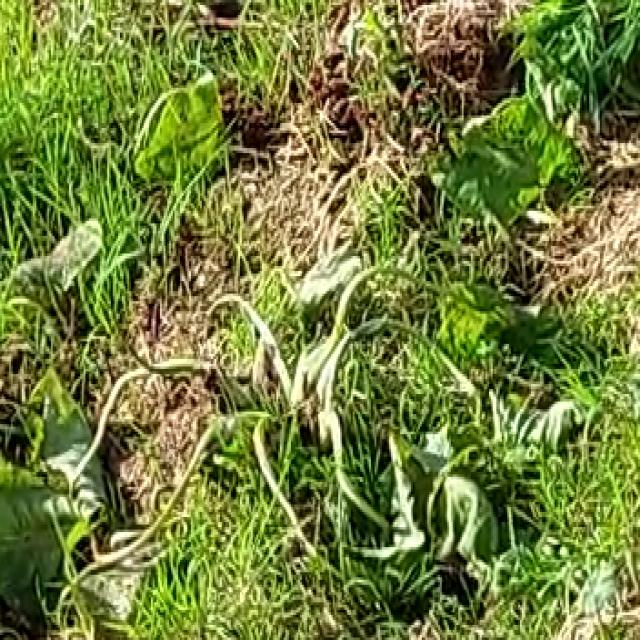organic waste: (0, 70, 596, 604)
